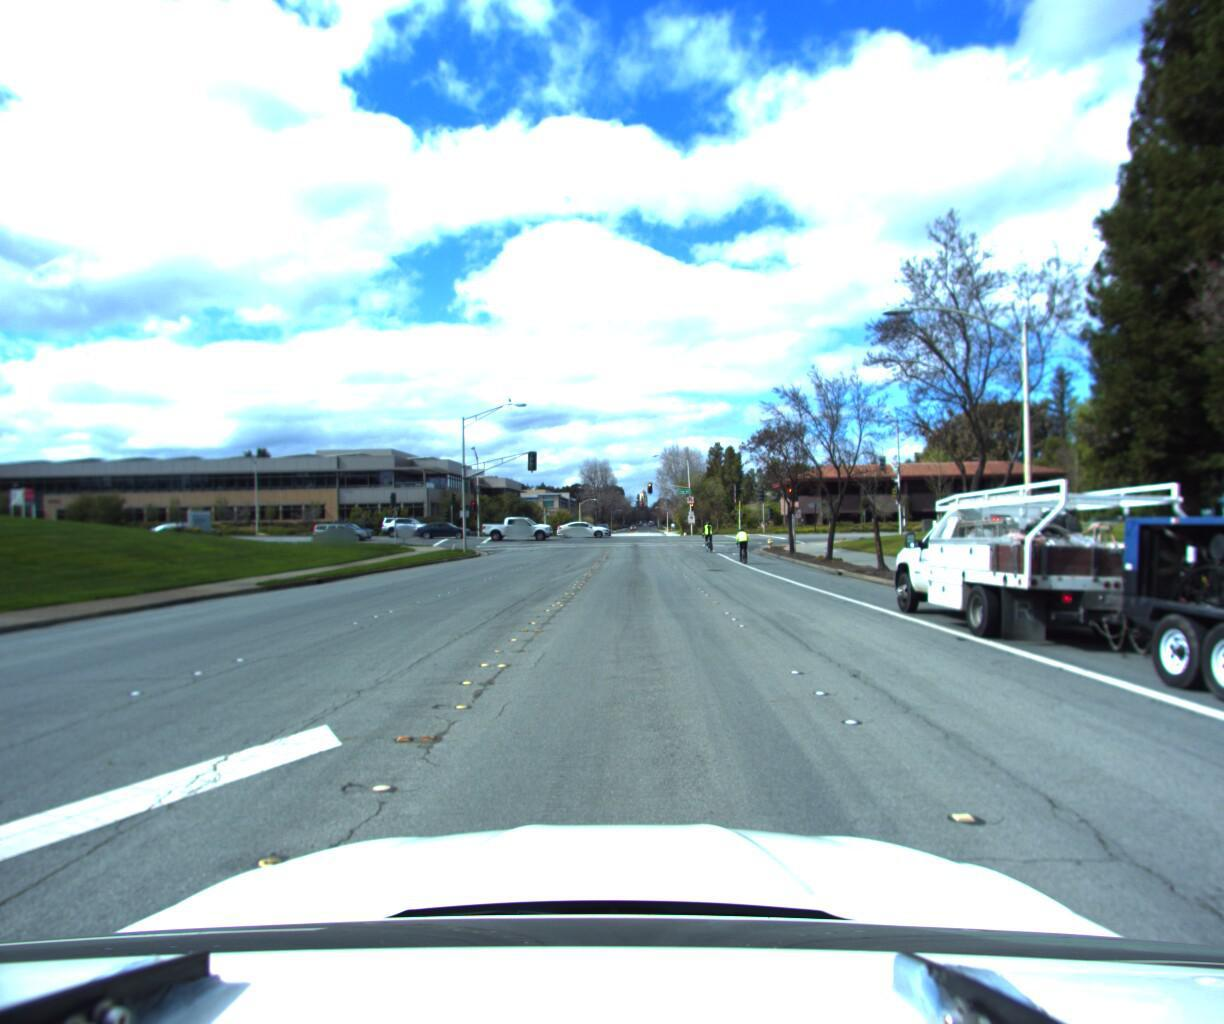bicycle: (732, 526, 752, 565), (698, 520, 717, 552)
car: (483, 518, 556, 541), (382, 516, 441, 539), (314, 524, 378, 545), (557, 521, 613, 541), (415, 523, 475, 541)
truck: (864, 426, 1224, 764)
